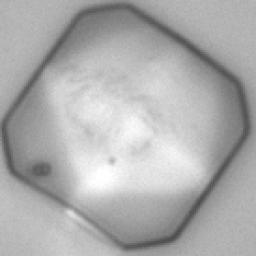crystals: (1, 4, 248, 249)
